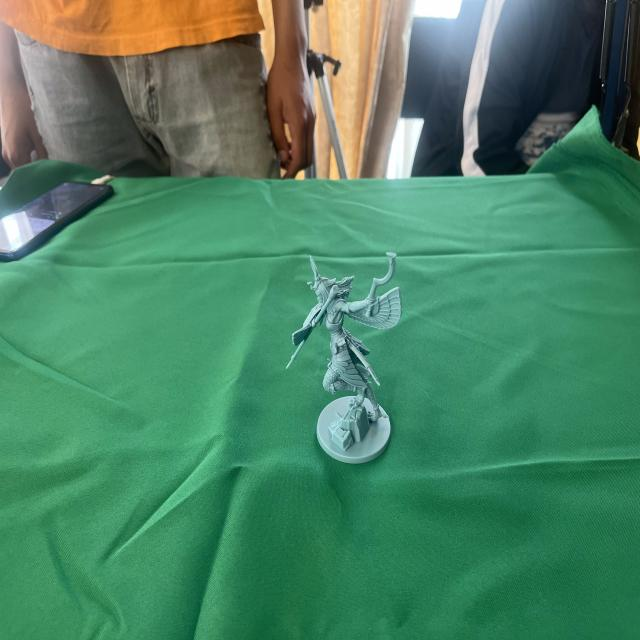isis: (280, 249, 410, 473)
